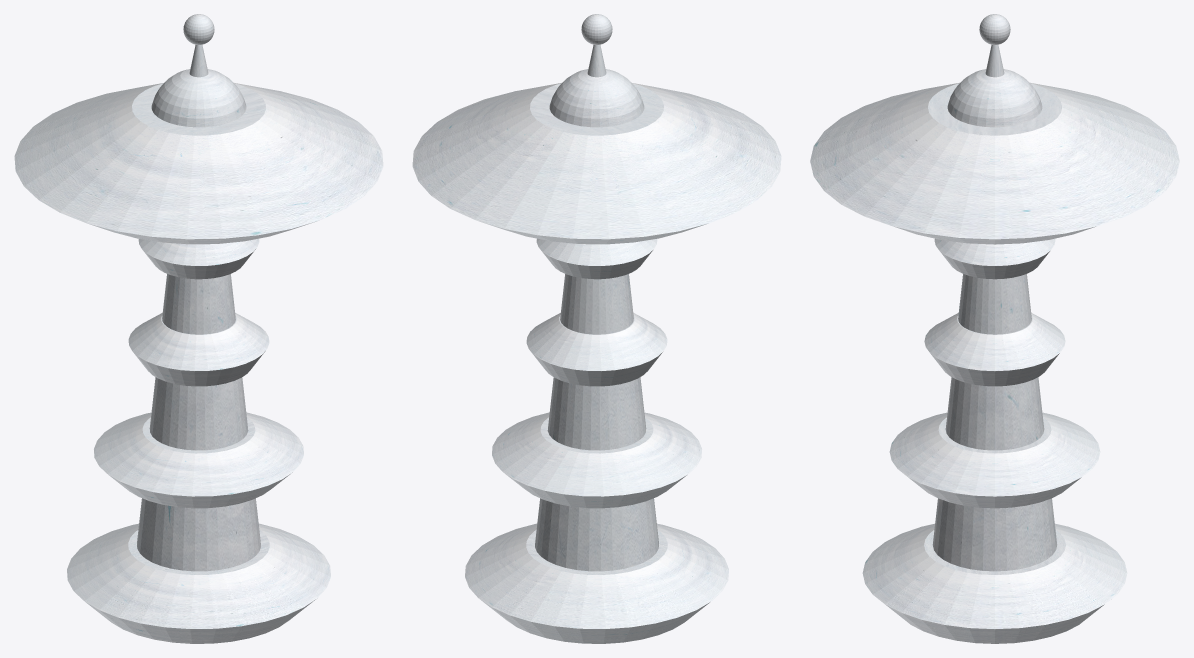
The model's file is building_03.obj.
3 views of the same model, side by side, from view 1: azimuth 30°, elevation 25°; view 2: azimuth 150°, elevation 25°; view 3: azimuth 270°, elevation 25° (orthographic).
Visible parts, largest first — view 1: 球_球.001; view 2: 球_球.001; view 3: 球_球.001.
Part boxes in pixels (x1=…): 球_球.001: x1=14, y1=14, x2=383, y2=643; 球_球.001: x1=412, y1=14, x2=781, y2=643; 球_球.001: x1=810, y1=14, x2=1179, y2=643.
Size of the model in its own units: 7.6 by 13.28 by 7.6.
